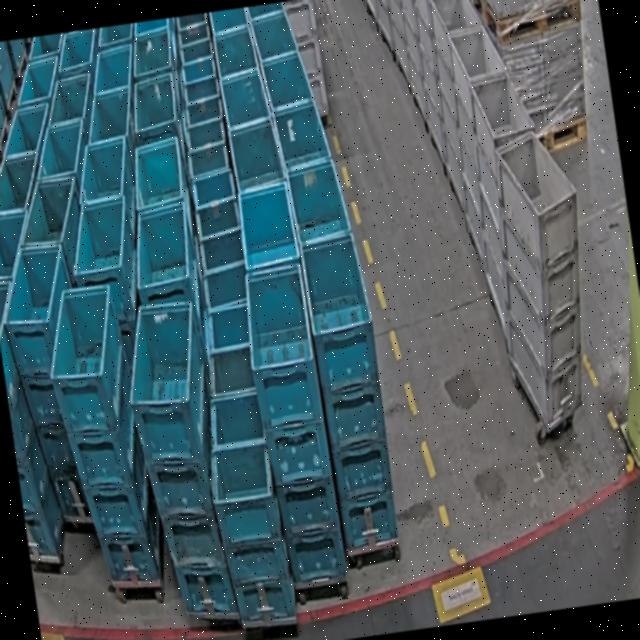4G: (476, 124, 610, 440)
B4: (115, 298, 243, 630), (38, 280, 170, 597), (238, 264, 350, 590), (297, 232, 403, 552), (0, 240, 105, 531), (0, 277, 71, 566)
B8: (200, 390, 298, 632)
